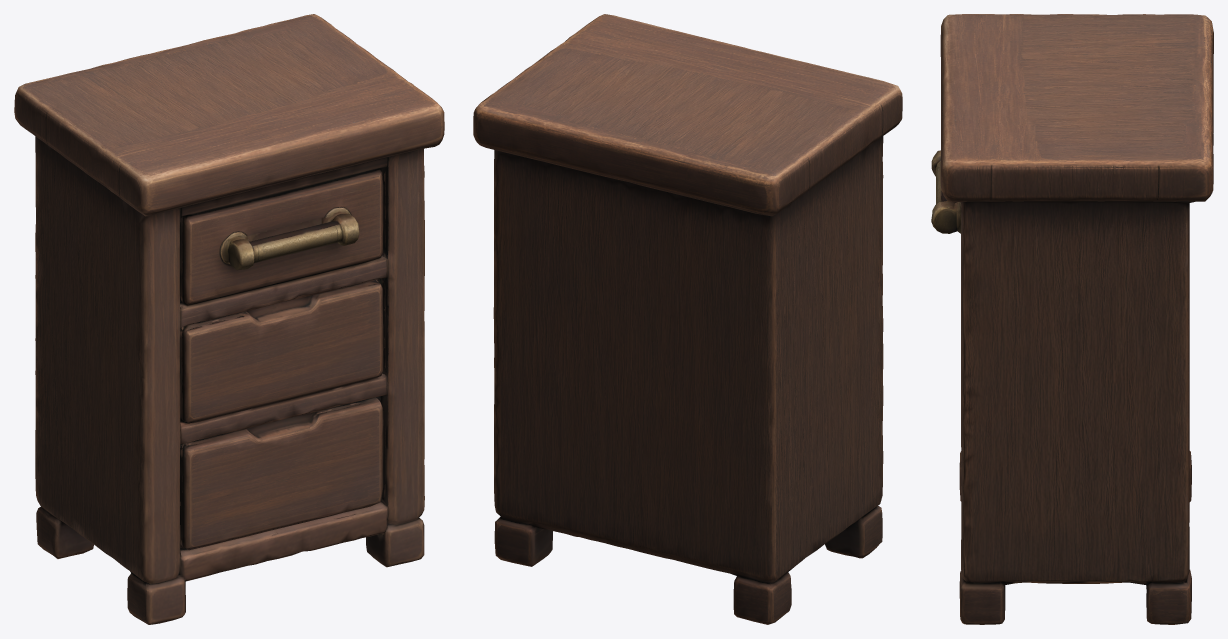
File: Furn_HeavyDresser_Single.fbx
3 renders of one model, left to right at view 1: azimuth 30°, elevation 25°; view 2: azimuth 150°, elevation 25°; view 3: azimuth 270°, elevation 25°, orthographic. The views are drawn at different scales.
Parts seen in each view (by area): view 1: texture_mapping; view 2: texture_mapping; view 3: texture_mapping.
Part boxes in pixels (x1,y1,x2,y2): texture_mapping: [14, 14, 444, 624]; texture_mapping: [473, 14, 902, 624]; texture_mapping: [931, 14, 1213, 624].
Bounding box in the file's own units: 0.699 × 0.5459 × 1.
1 material, 1 textured.
